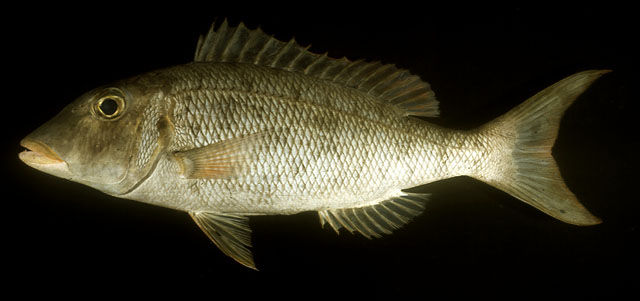fish: (18, 19, 613, 271)
